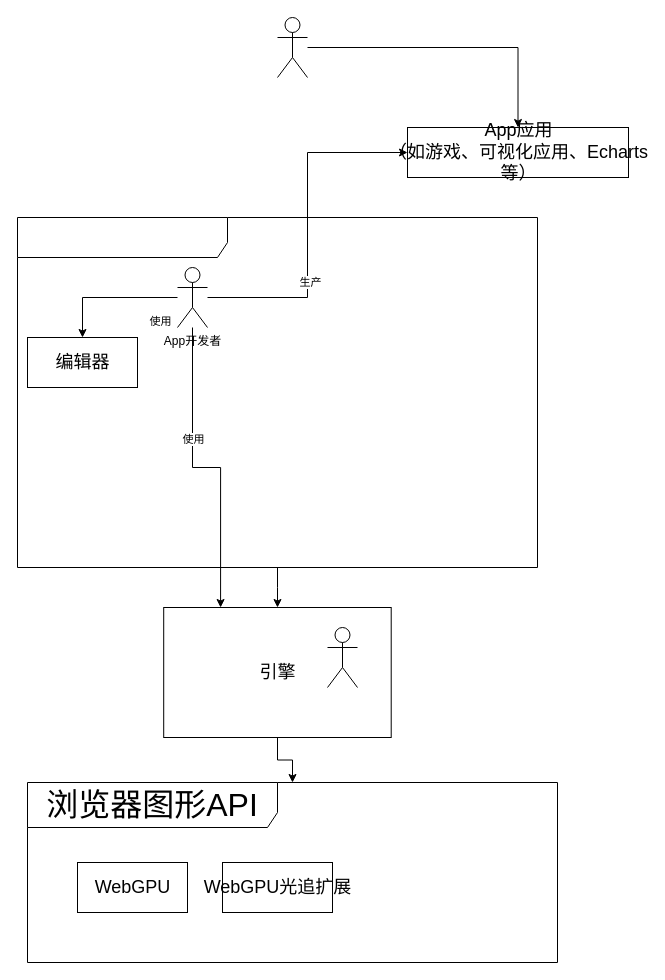
This 665x980 diagram has some shape labels left out. The shapes that lost their labels are listed below. From the top down, each one's box as (x1, y1, x2, y2) in pixels, then its label:
(276, 16, 308, 78): 浏览器消费者
(16, 216, 538, 568): 用户
(326, 626, 358, 688): 引擎开发者
